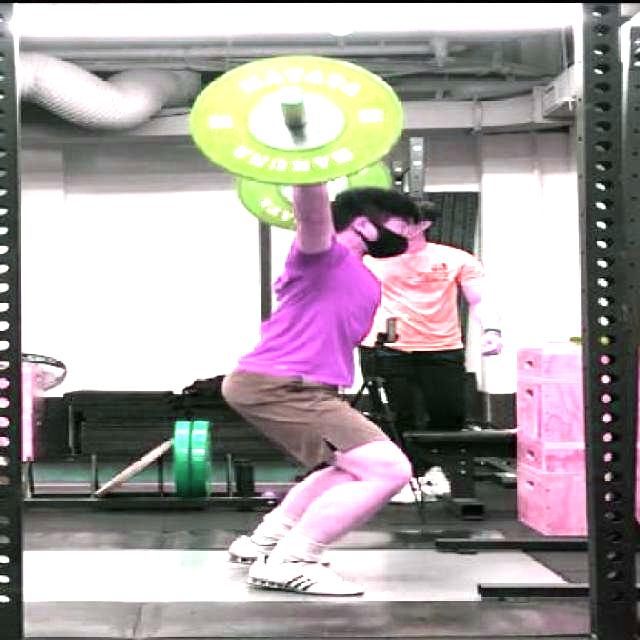barbell: (172, 50, 419, 183)
